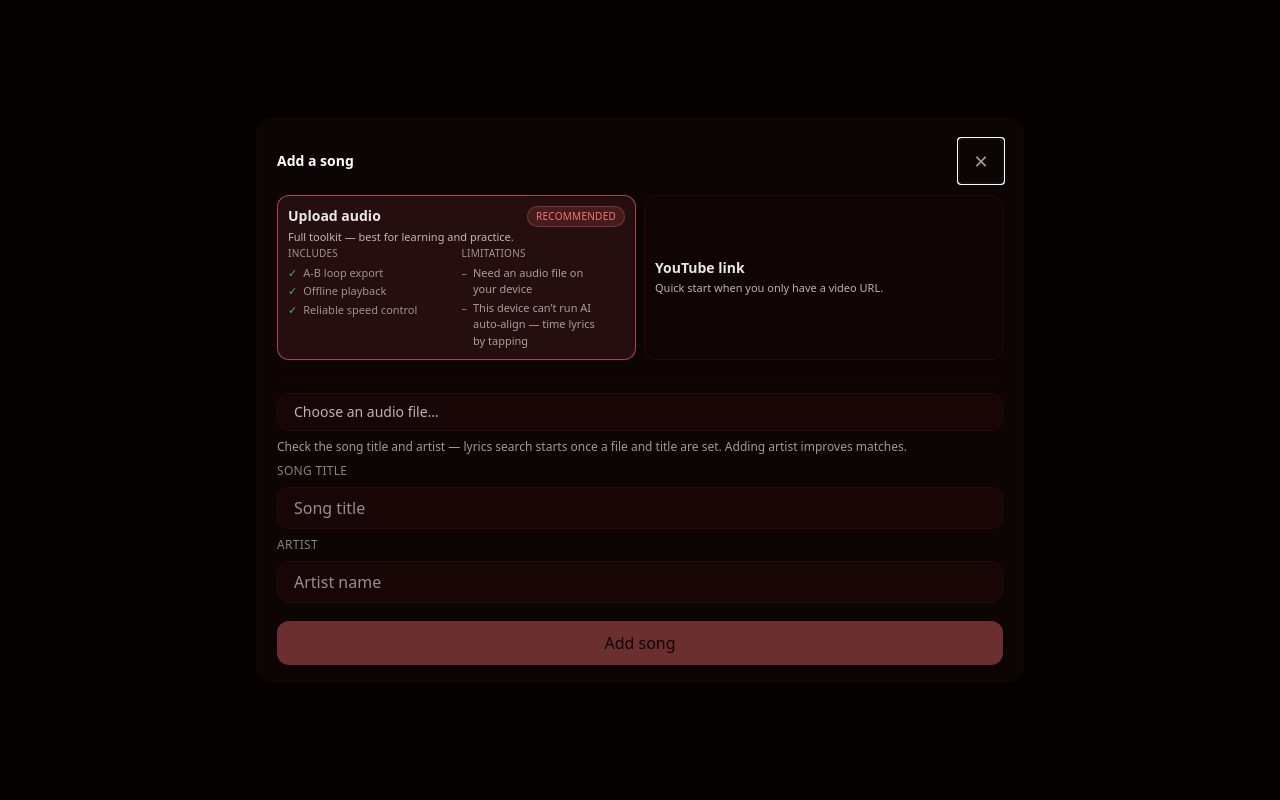
Test: Add-song sheet copy on a device that cannot auto-align › does not tell a manual-tier user the YouTube path costs them auto-align
Click the button "YouTube link Quick start when you only have a video URL.": point(824, 278) x1=644 y1=195 x2=1003 y2=360
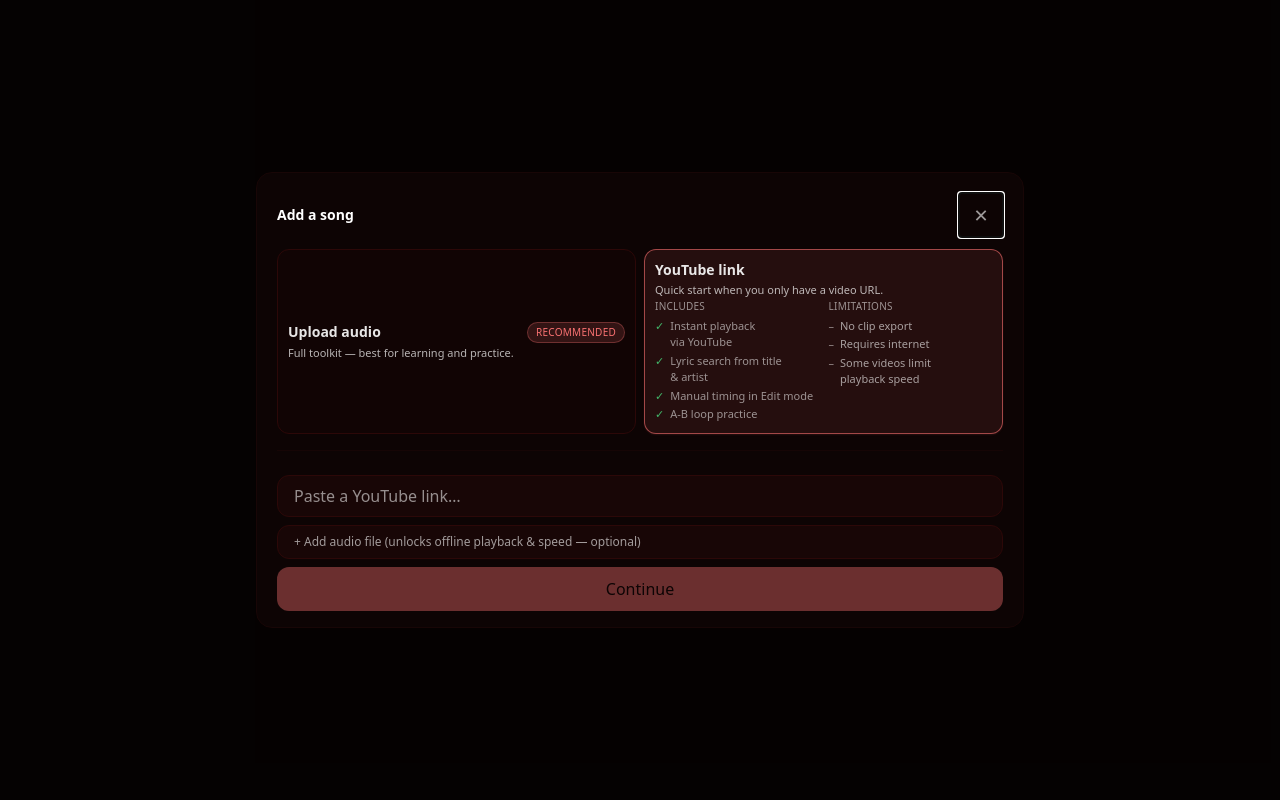
Now the list item "– No clip export" is shown, box x1=828 y1=318 x2=912 y2=333
